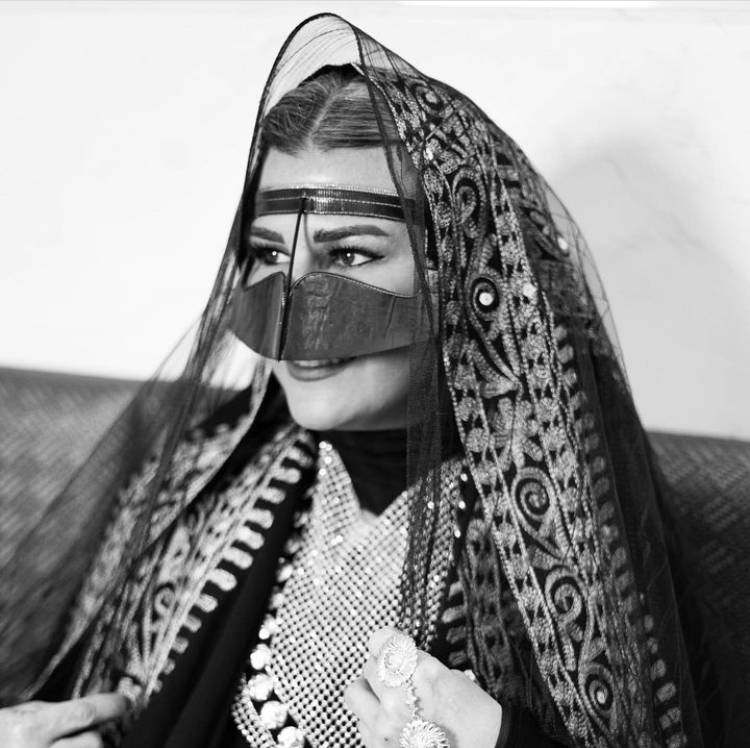Saudi_Founding_Day: (1, 7, 724, 748)
